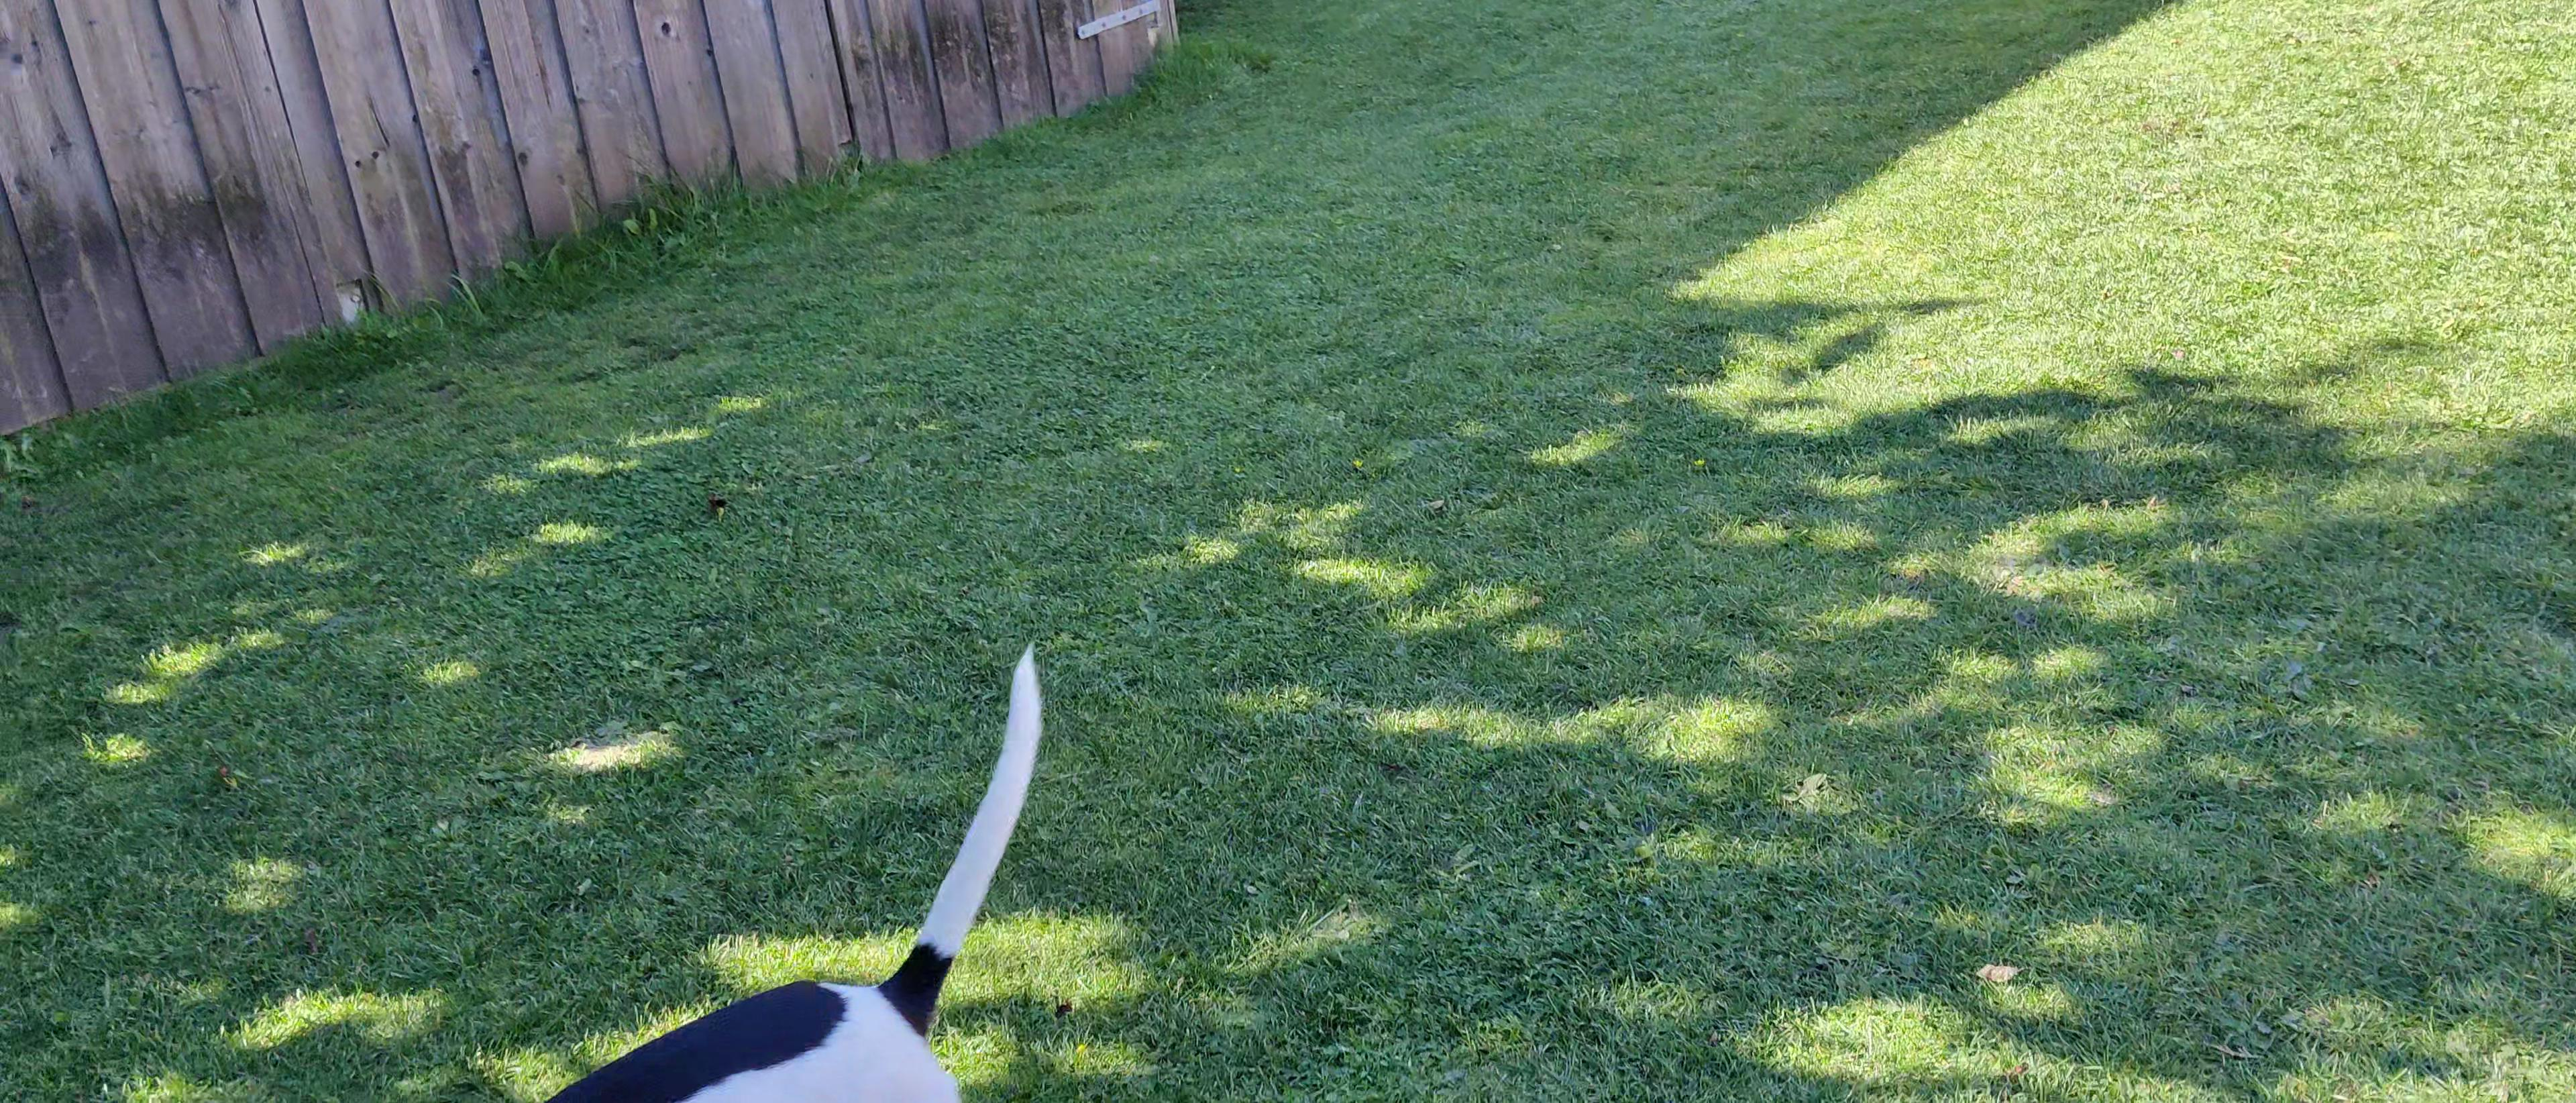Dog: (494, 623, 1058, 1103)
